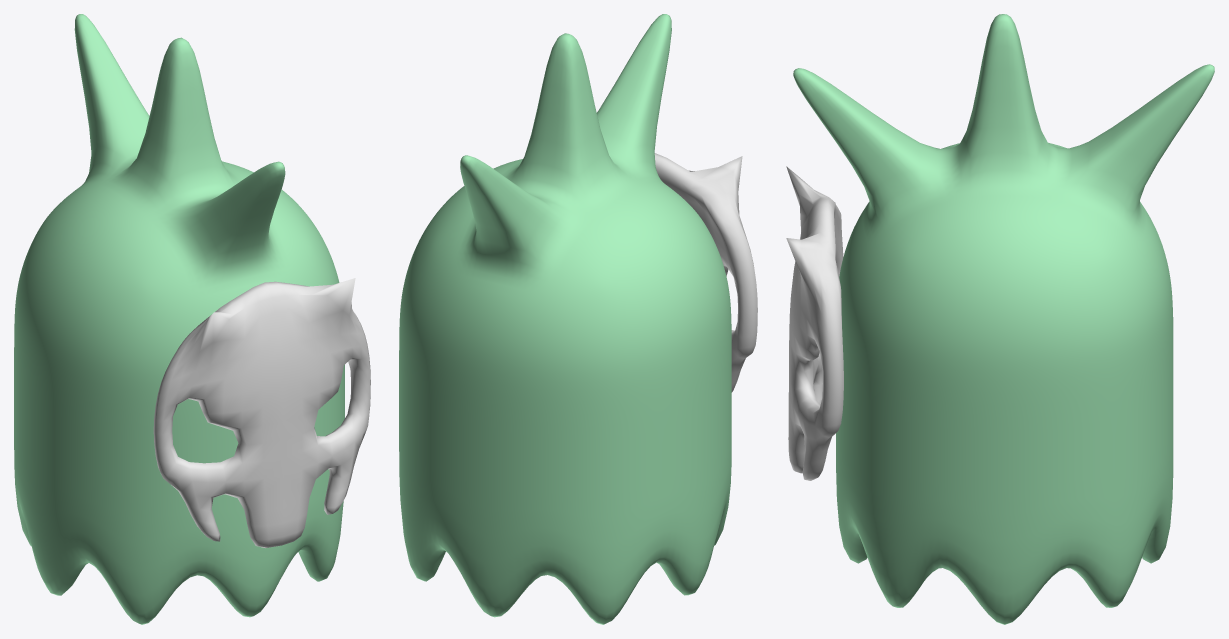
Rendered from guitarist_ghost.fbx.
3 views of the same model, side by side, from view 1: azimuth 30°, elevation 25°; view 2: azimuth 150°, elevation 25°; view 3: azimuth 270°, elevation 25° (orthographic). The views are drawn at different scales.
Parts seen in each view (by area): view 1: guitarist; view 2: guitarist; view 3: guitarist.
Part boxes in pixels (x1,y1,x2,y2): guitarist: (14, 14, 370, 624); guitarist: (399, 14, 757, 624); guitarist: (786, 14, 1214, 624).
Size of the model in its own units: 167 by 299 by 212.
